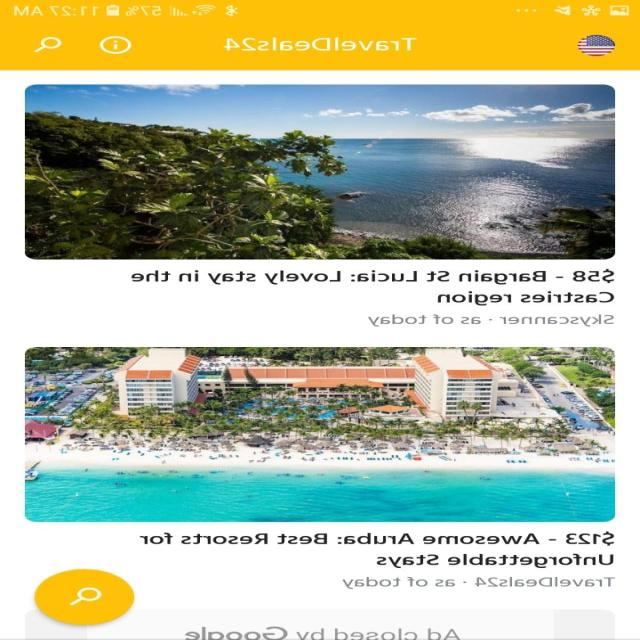Icon: (36, 569, 135, 624), (100, 36, 132, 54), (34, 37, 62, 52)
Image: (25, 346, 615, 522), (25, 84, 615, 260), (578, 35, 616, 56)
Text: (132, 268, 616, 306), (140, 531, 616, 568), (185, 626, 460, 639), (341, 576, 615, 589), (368, 314, 614, 326), (224, 37, 417, 51)
